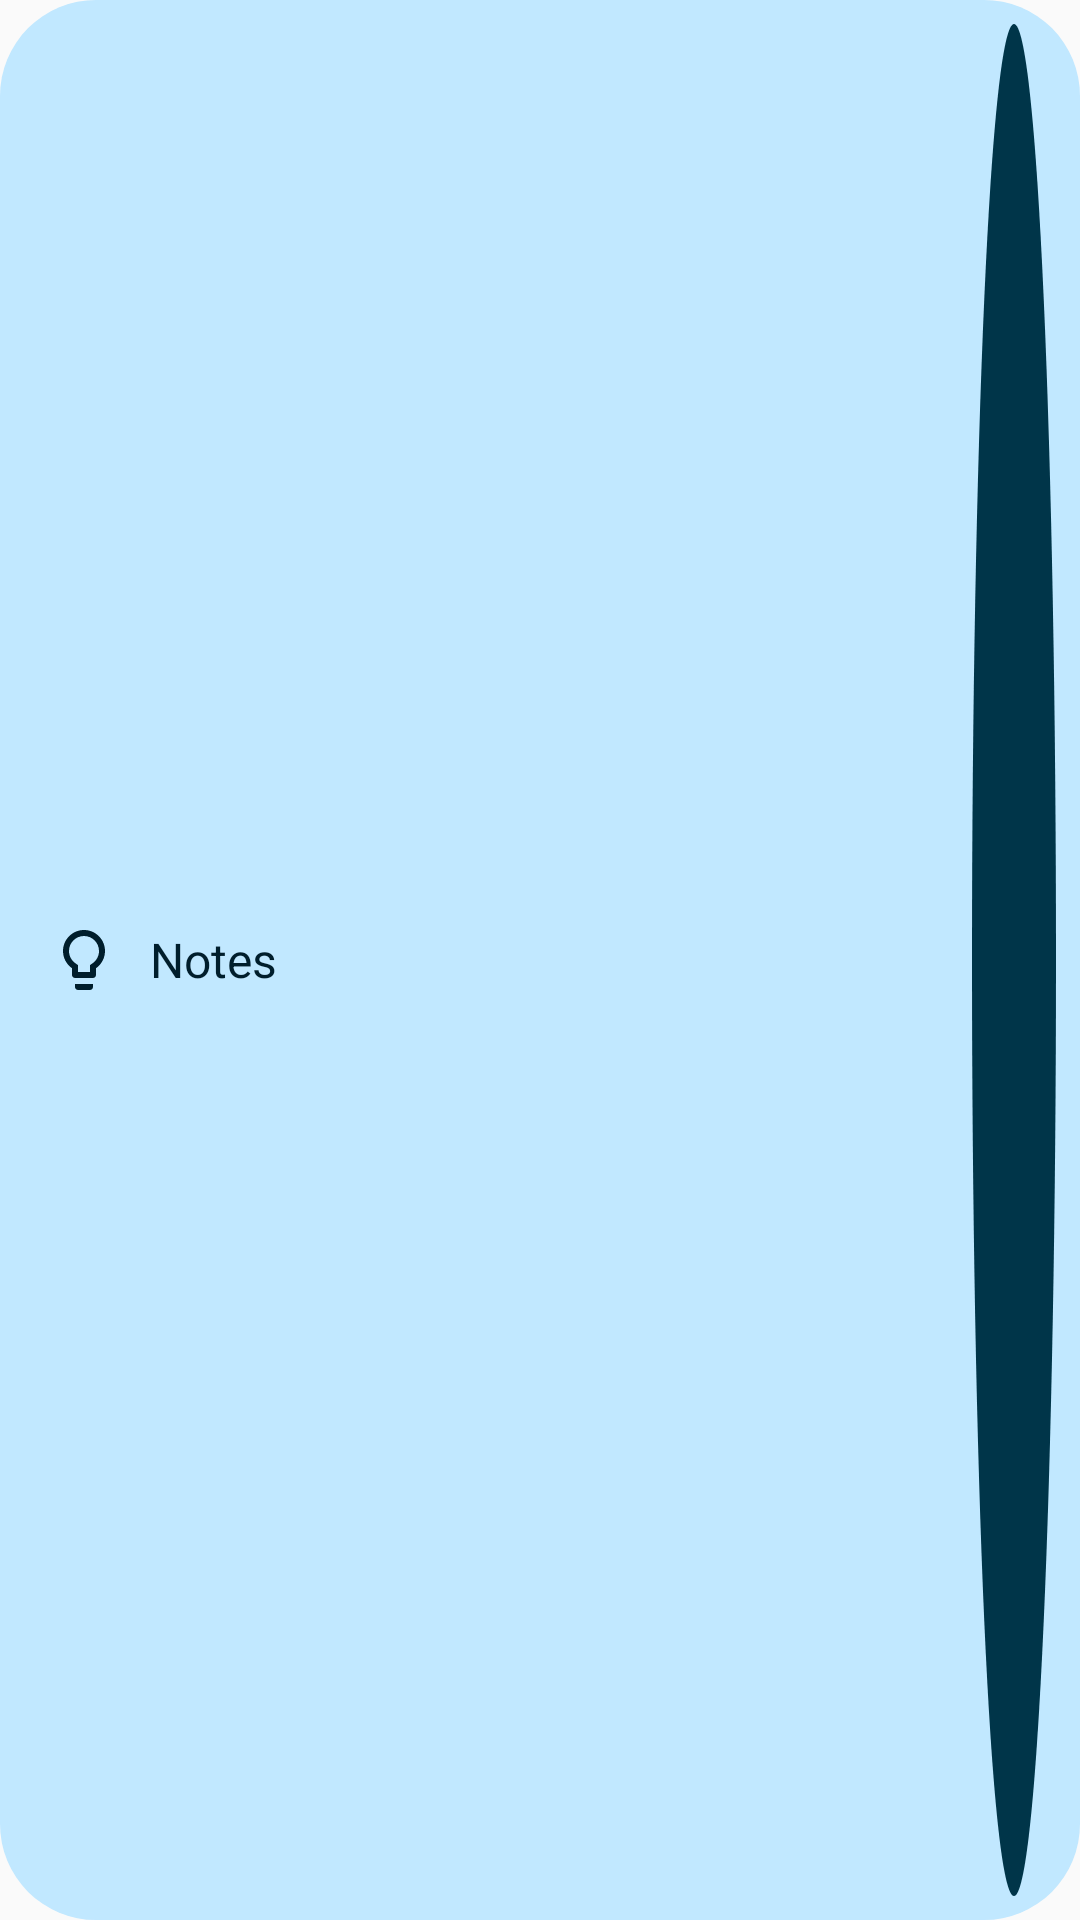

Locate icon controls on the screen. Image size 1080px×1920px, boxes as rect(x1, y1, x2, y2).
wi bulb: rect(63, 930, 105, 990)
